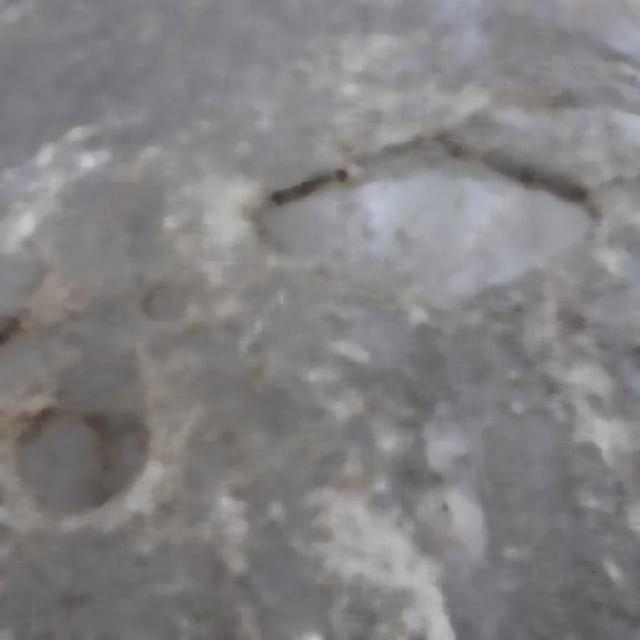Pothole: (247, 142, 616, 327), (27, 352, 156, 536)
